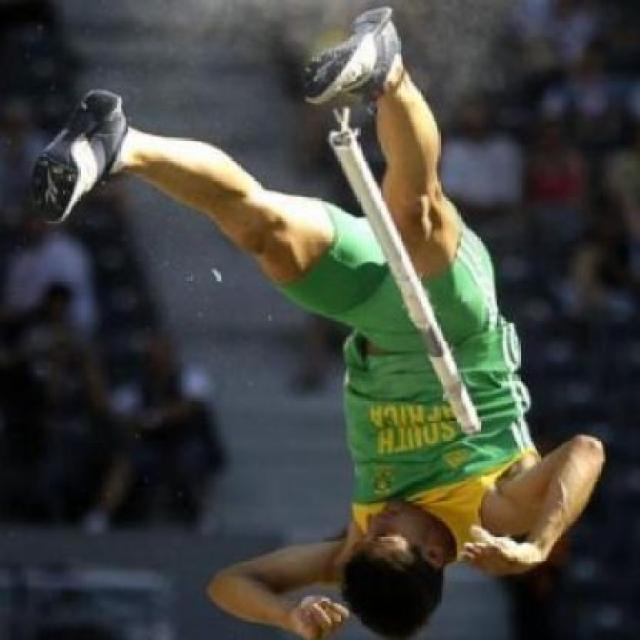fall: (32, 7, 612, 638)
